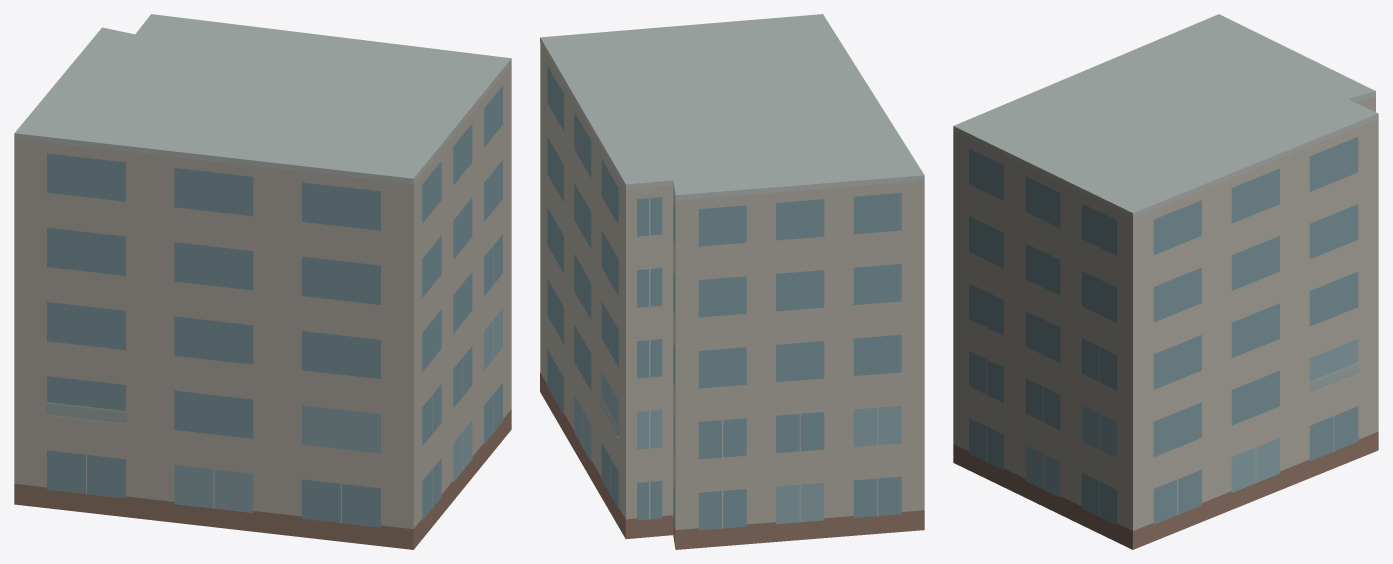
Rendered from survey-upis-32801327.glb.
3 renders of one model, left to right at view 1: azimuth 30°, elevation 25°; view 2: azimuth 150°, elevation 25°; view 3: azimuth 270°, elevation 25°, orthographic. The views are drawn at different scales.
Parts seen in each view (by area): view 1: survey-upis-32801327.tmp; view 2: survey-upis-32801327.tmp; view 3: survey-upis-32801327.tmp.
Part boxes in pixels (box(x1,y1,x2,y2)): survey-upis-32801327.tmp: box(14, 14, 511, 549); survey-upis-32801327.tmp: box(540, 14, 924, 549); survey-upis-32801327.tmp: box(953, 14, 1378, 549).
Bounding box in the file's own units: 20.75 × 16.36 × 18.73.
